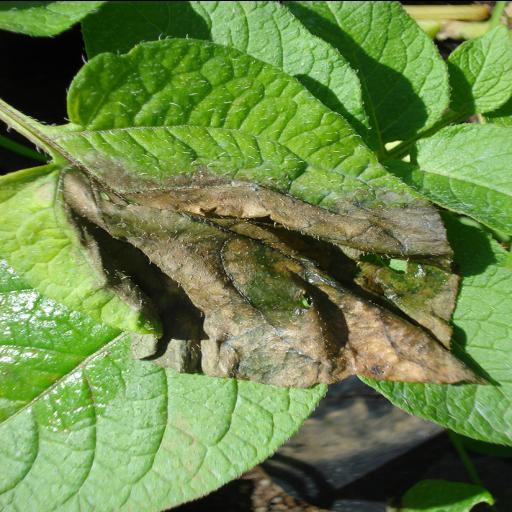disease_tomato: (0, 34, 490, 390)
